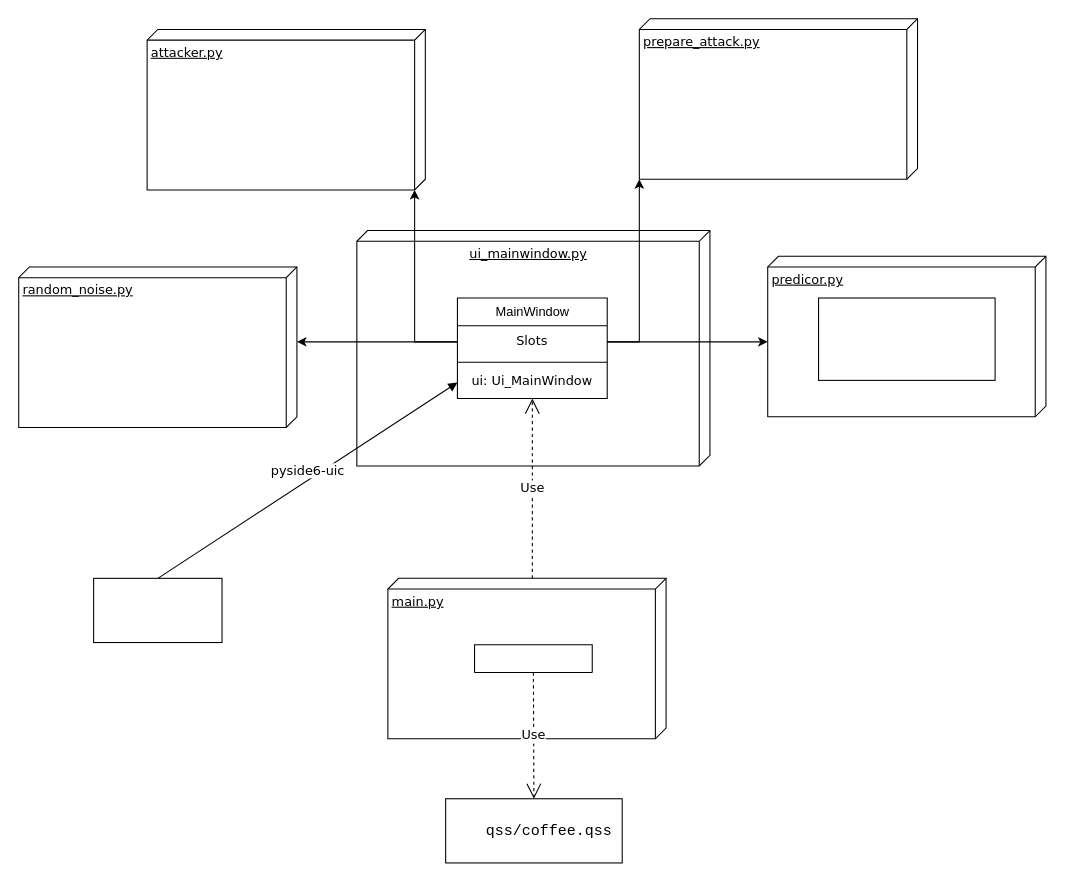
Image size: 1065x882. Some labels were removed from this diagram. Each missing label, with the centre of its shape:
"mainwindow.ui" goes at [157,610].
"model = VGG16 (weights='imagenet')" goes at [906,338].
"QApplication" goes at [532,658].
